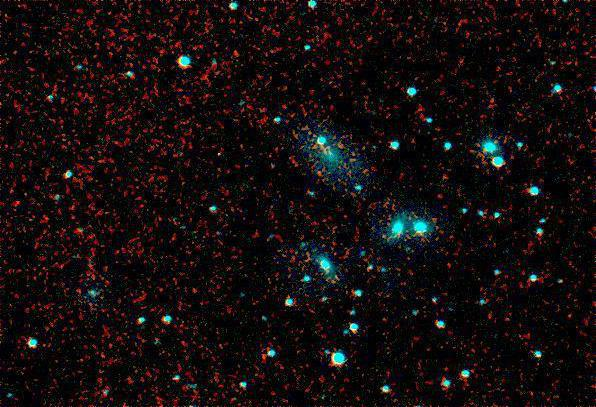star: (303, 161, 333, 191)
